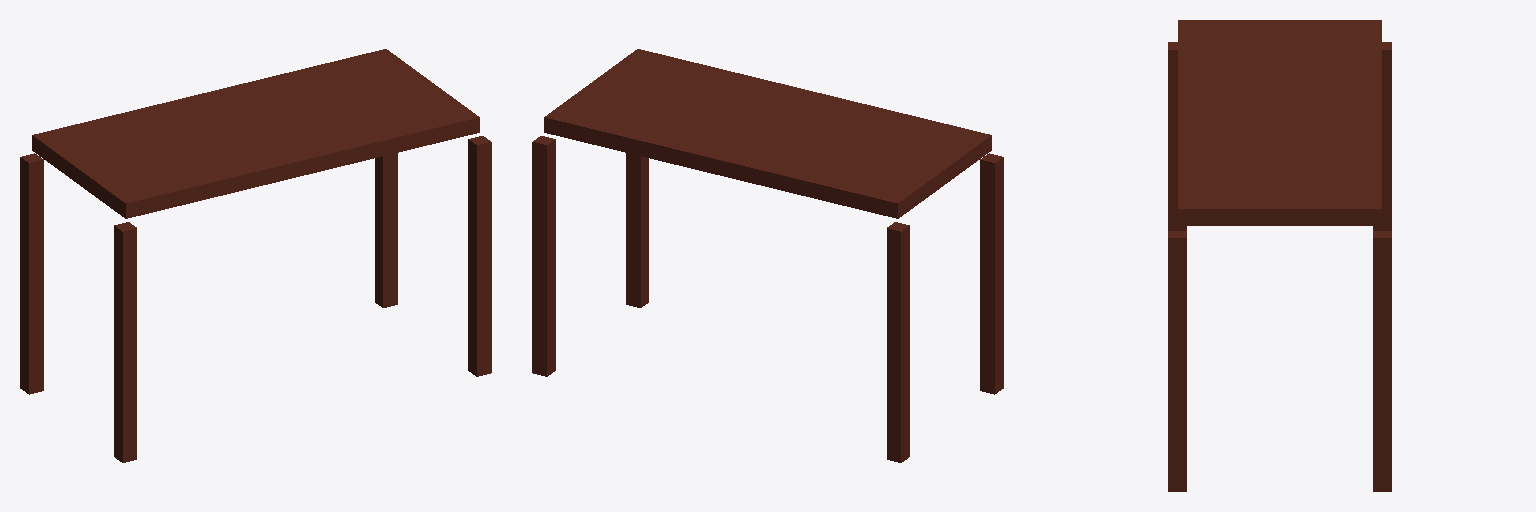
robot.urdf — table:
<?xml version="1.0"?>
<robot name="table">
  <!-- Materials -->
  <material name="wood">
    <color rgba="0.4 0.2 0.15 1.0"/>
  </material>

  <!-- Tabletop -->
  <link name="tabletop">
    <visual>
      <geometry>
        <box size="1.2 0.55 0.05"/>
      </geometry>
      <material name="wood"/>
    </visual>
    <collision>
      <geometry>
        <box size="1.2 0.55 0.05"/>
      </geometry>
    </collision>
    <inertial>
      <mass value="10.0"/>
      <origin xyz="0 0 0" rpy="0 0 0"/>
      <inertia ixx="0.1" ixy="0.0" ixz="0.0" iyy="0.1" iyz="0.0" izz="0.1"/>
    </inertial>
  </link>

  <!-- Leg 1 -->
  <link name="leg1">
    <visual>
      <geometry>
        <box size="0.05 0.05 0.75"/>
      </geometry>
      <material name="wood"/>
    </visual>
    <collision>
      <geometry>
        <box size="0.05 0.05 0.75"/>
      </geometry>
    </collision>
    <inertial>
      <mass value="2.0"/>
      <origin xyz="0 0 -0.375" rpy="0 0 0"/>
      <inertia ixx="0.001" ixy="0.0" ixz="0.0" iyy="0.001" iyz="0.0" izz="0.001"/>
    </inertial>
  </link>

  <!-- Leg 2 -->
  <link name="leg2">
    <visual>
      <geometry>
        <box size="0.05 0.05 0.75"/>
      </geometry>
      <material name="wood"/>
    </visual>
    <collision>
      <geometry>
        <box size="0.05 0.05 0.75"/>
      </geometry>
    </collision>
    <inertial>
      <mass value="2.0"/>
      <origin xyz="0 0 -0.375" rpy="0 0 0"/>
      <inertia ixx="0.001" ixy="0.0" ixz="0.0" iyy="0.001" iyz="0.0" izz="0.001"/>
    </inertial>
  </link>

  <!-- Leg 3 -->
  <link name="leg3">
    <visual>
      <geometry>
        <box size="0.05 0.05 0.75"/>
      </geometry>
      <material name="wood"/>
    </visual>
    <collision>
      <geometry>
        <box size="0.05 0.05 0.75"/>
      </geometry>
    </collision>
    <inertial>
      <mass value="2.0"/>
      <origin xyz="0 0 -0.375" rpy="0 0 0"/>
      <inertia ixx="0.001" ixy="0.0" ixz="0.0" iyy="0.001" iyz="0.0" izz="0.001"/>
    </inertial>
  </link>

  <!-- Leg 4 -->
  <link name="leg4">
    <visual>
      <geometry>
        <box size="0.05 0.05 0.75"/>
      </geometry>
      <material name="wood"/>
    </visual>
    <collision>
      <geometry>
        <box size="0.05 0.05 0.75"/>
      </geometry>
    </collision>
    <inertial>
      <mass value="2.0"/>
      <origin xyz="0 0 -0.375" rpy="0 0 0"/>
      <inertia ixx="0.001" ixy="0.0" ixz="0.0" iyy="0.001" iyz="0.0" izz="0.001"/>
    </inertial>
  </link>

  <!-- Joints connecting legs to tabletop -->
  <joint name="joint_leg1" type="fixed">
    <parent link="tabletop"/>
    <child link="leg1"/>
    <origin xyz="-0.6 -0.275 -0.425" rpy="0 0 0"/>
  </joint>

  <joint name="joint_leg2" type="fixed">
    <parent link="tabletop"/>
    <child link="leg2"/>
    <origin xyz="0.6 -0.275 -0.425" rpy="0 0 0"/>
  </joint>

  <joint name="joint_leg3" type="fixed">
    <parent link="tabletop"/>
    <child link="leg3"/>
    <origin xyz="-0.6 0.275 -0.425" rpy="0 0 0"/>
  </joint>

  <joint name="joint_leg4" type="fixed">
    <parent link="tabletop"/>
    <child link="leg4"/>
    <origin xyz="0.6 0.275 -0.425" rpy="0 0 0"/>
  </joint>
</robot>

--- What the picture shows (computed from the rendered views, not written in the file) ---
3 views of the same robot in one strip: view 1: azimuth 30°, elevation 25°; view 2: azimuth 150°, elevation 25°; view 3: azimuth 270°, elevation 25° (orthographic).
Model table with 5 links and 4 joints (4 fixed), rooted at tabletop, posed every joint at zero.
Visible links, largest first — view 1: tabletop, leg2, leg3, leg1, leg4; view 2: tabletop, leg1, leg4, leg3, leg2; view 3: tabletop, leg2, leg4, leg1, leg3.
Link boxes in pixels (x1=…): tabletop: x1=32, y1=49, x2=479, y2=218; leg2: x1=468, y1=136, x2=491, y2=376; leg3: x1=20, y1=153, x2=43, y2=394; leg1: x1=114, y1=222, x2=136, y2=462; leg4: x1=375, y1=153, x2=397, y2=307; tabletop: x1=544, y1=49, x2=991, y2=218; leg1: x1=980, y1=153, x2=1003, y2=394; leg4: x1=532, y1=136, x2=555, y2=376; leg3: x1=887, y1=222, x2=909, y2=462; leg2: x1=626, y1=153, x2=648, y2=307; tabletop: x1=1178, y1=20, x2=1381, y2=225; leg2: x1=1168, y1=231, x2=1186, y2=491; leg4: x1=1373, y1=231, x2=1391, y2=491; leg1: x1=1168, y1=42, x2=1186, y2=230; leg3: x1=1373, y1=42, x2=1391, y2=230.
Size in the robot's own frame: 1.25 by 0.6 by 0.825 metres.
Geometry: primitives only (box / cylinder / sphere), no mesh files.
